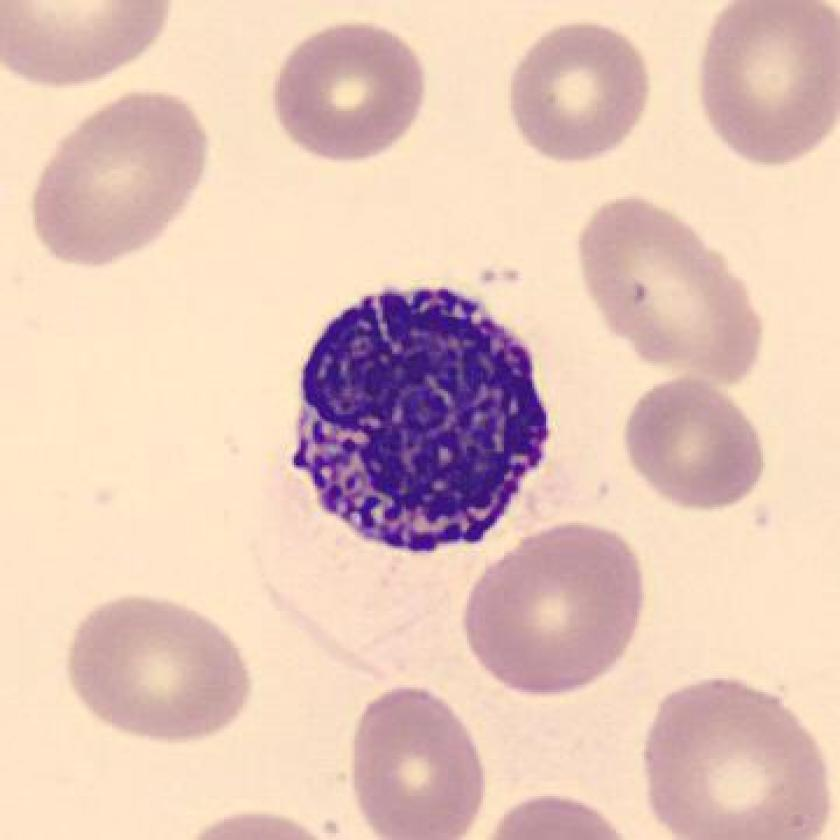basophil: (276, 270, 554, 557)
